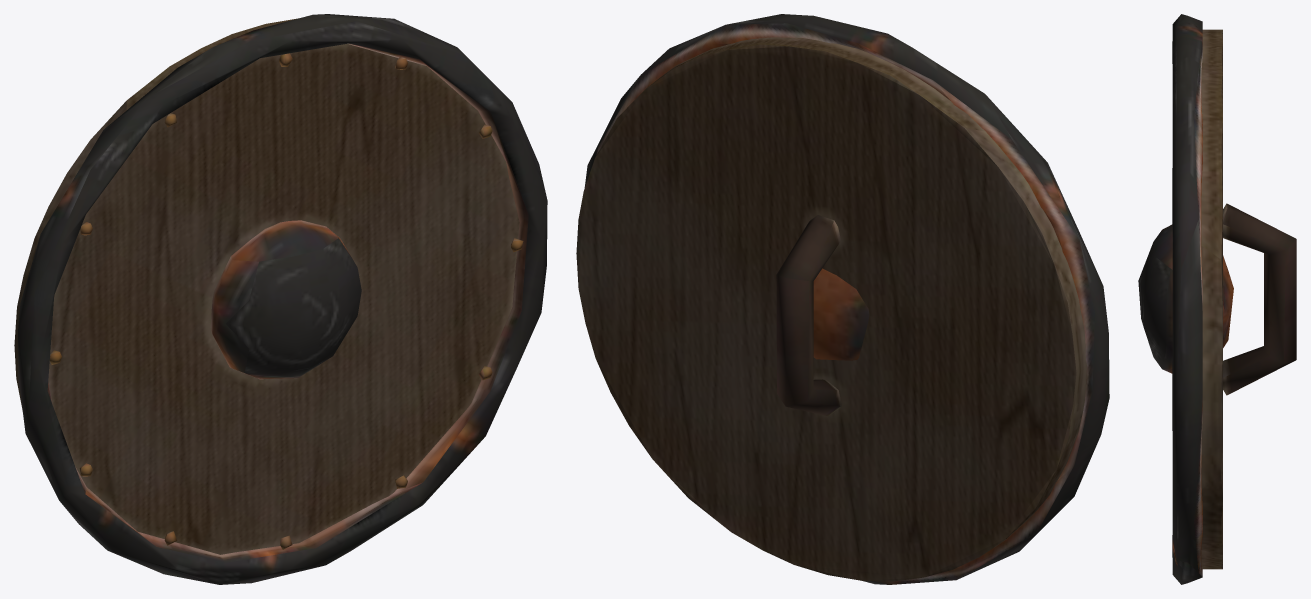
File: eq_shield_1_lod1.glb
3 views of the same model, side by side, from view 1: azimuth 30°, elevation 25°; view 2: azimuth 150°, elevation 25°; view 3: azimuth 270°, elevation 25° (orthographic). The views are drawn at different scales.
Parts seen in each view (by area): view 1: eq_shield_1_lod1; view 2: eq_shield_1_lod1; view 3: eq_shield_1_lod1.
Boxes of the visible parts, x1,y1,x2,y2 form: eq_shield_1_lod1: (14,14,547,584); eq_shield_1_lod1: (576,14,1109,584); eq_shield_1_lod1: (1138,14,1296,584).
Bounding box in the file's own units: 0.7172 × 0.7172 × 0.198.
Materials: 1 (1 with a texture image).
